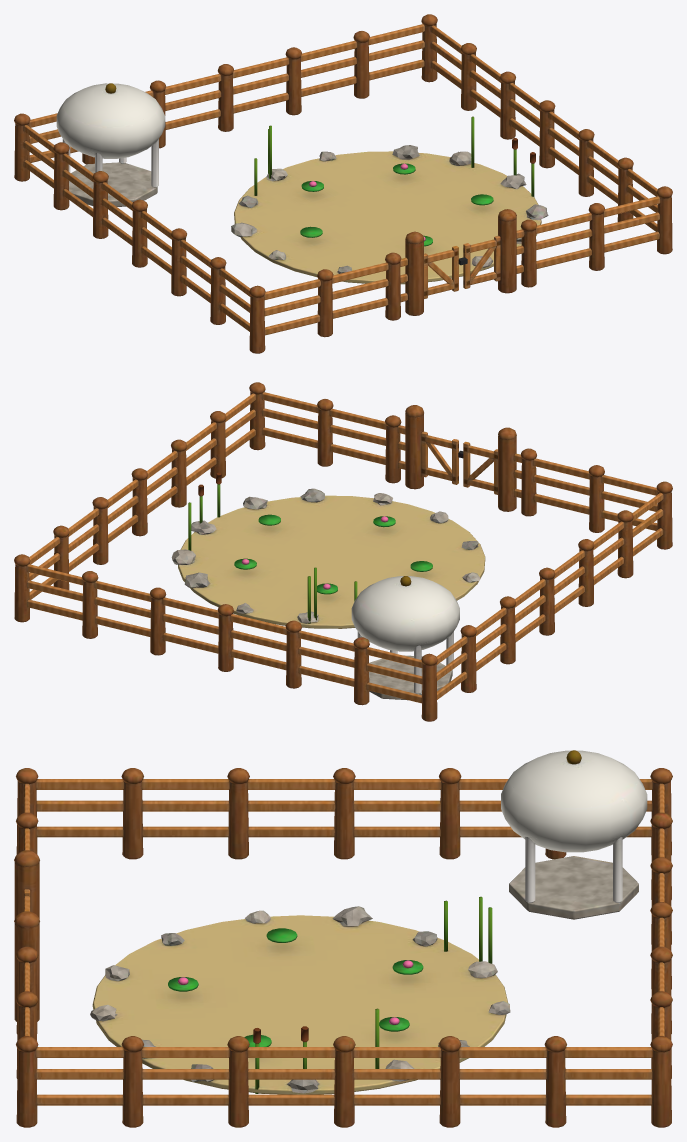
Rendered from mandarin_pond.glb.
The picture shows the model from 3 angles, top to bottom: view 1: azimuth 30°, elevation 25°; view 2: azimuth 150°, elevation 25°; view 3: azimuth 270°, elevation 25°; orthographic projection. The views are drawn at different scales.
Visible parts, largest first — view 1: mandarin_pond; view 2: mandarin_pond; view 3: mandarin_pond.
Boxes of the visible parts, bbox=[...] form: mandarin_pond: bbox=[14, 14, 672, 353]; mandarin_pond: bbox=[14, 382, 672, 721]; mandarin_pond: bbox=[14, 750, 672, 1127].
Size of the model in its own units: 3 by 0.715 by 3.01.
1 material, 1 textured.
